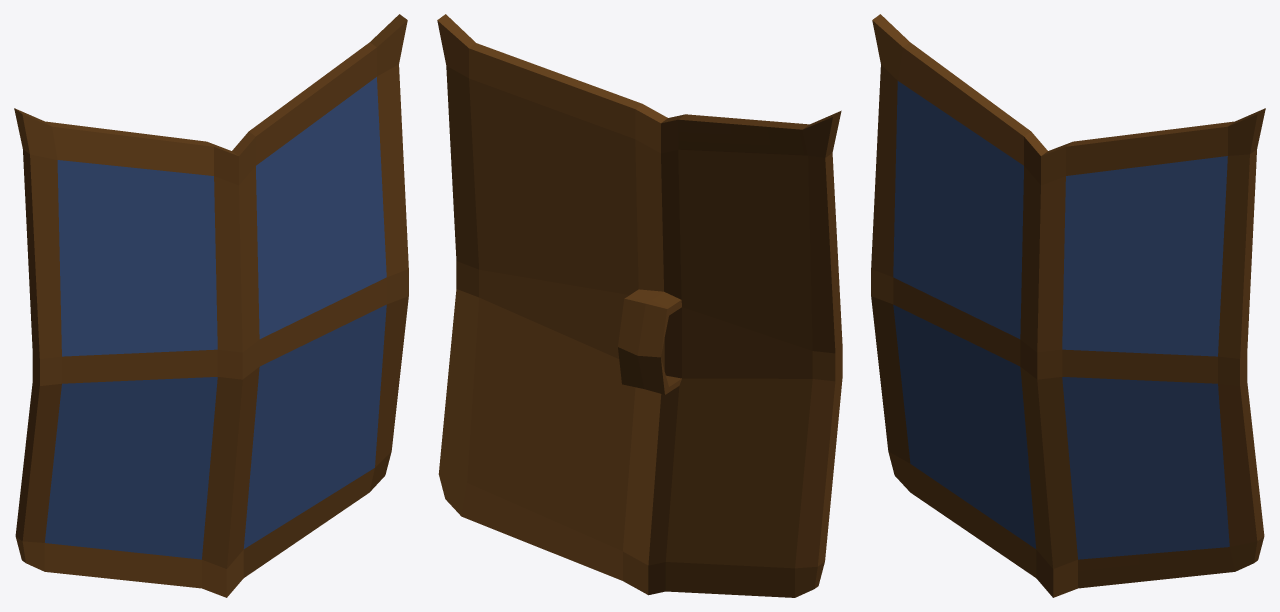
Rendered from MithrilKiteshield.glb.
The picture shows the model from 3 angles, left to right: view 1: azimuth 30°, elevation 25°; view 2: azimuth 150°, elevation 25°; view 3: azimuth 330°, elevation 25°; orthographic projection. The views are drawn at different scales.
Visible parts, largest first — view 1: Kiteshield; view 2: Kiteshield; view 3: Kiteshield.
Part boxes in pixels (box(x1,y1,x2,y2)): Kiteshield: box(14, 14, 408, 597); Kiteshield: box(437, 14, 842, 597); Kiteshield: box(871, 14, 1265, 597).
Bounding box in the file's own units: 0.6266 × 0.8115 × 0.12.
